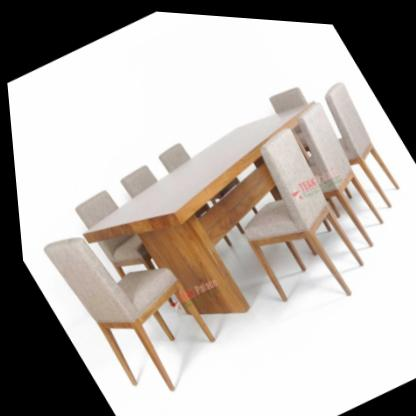Dining Table: (2, 31, 416, 416)
